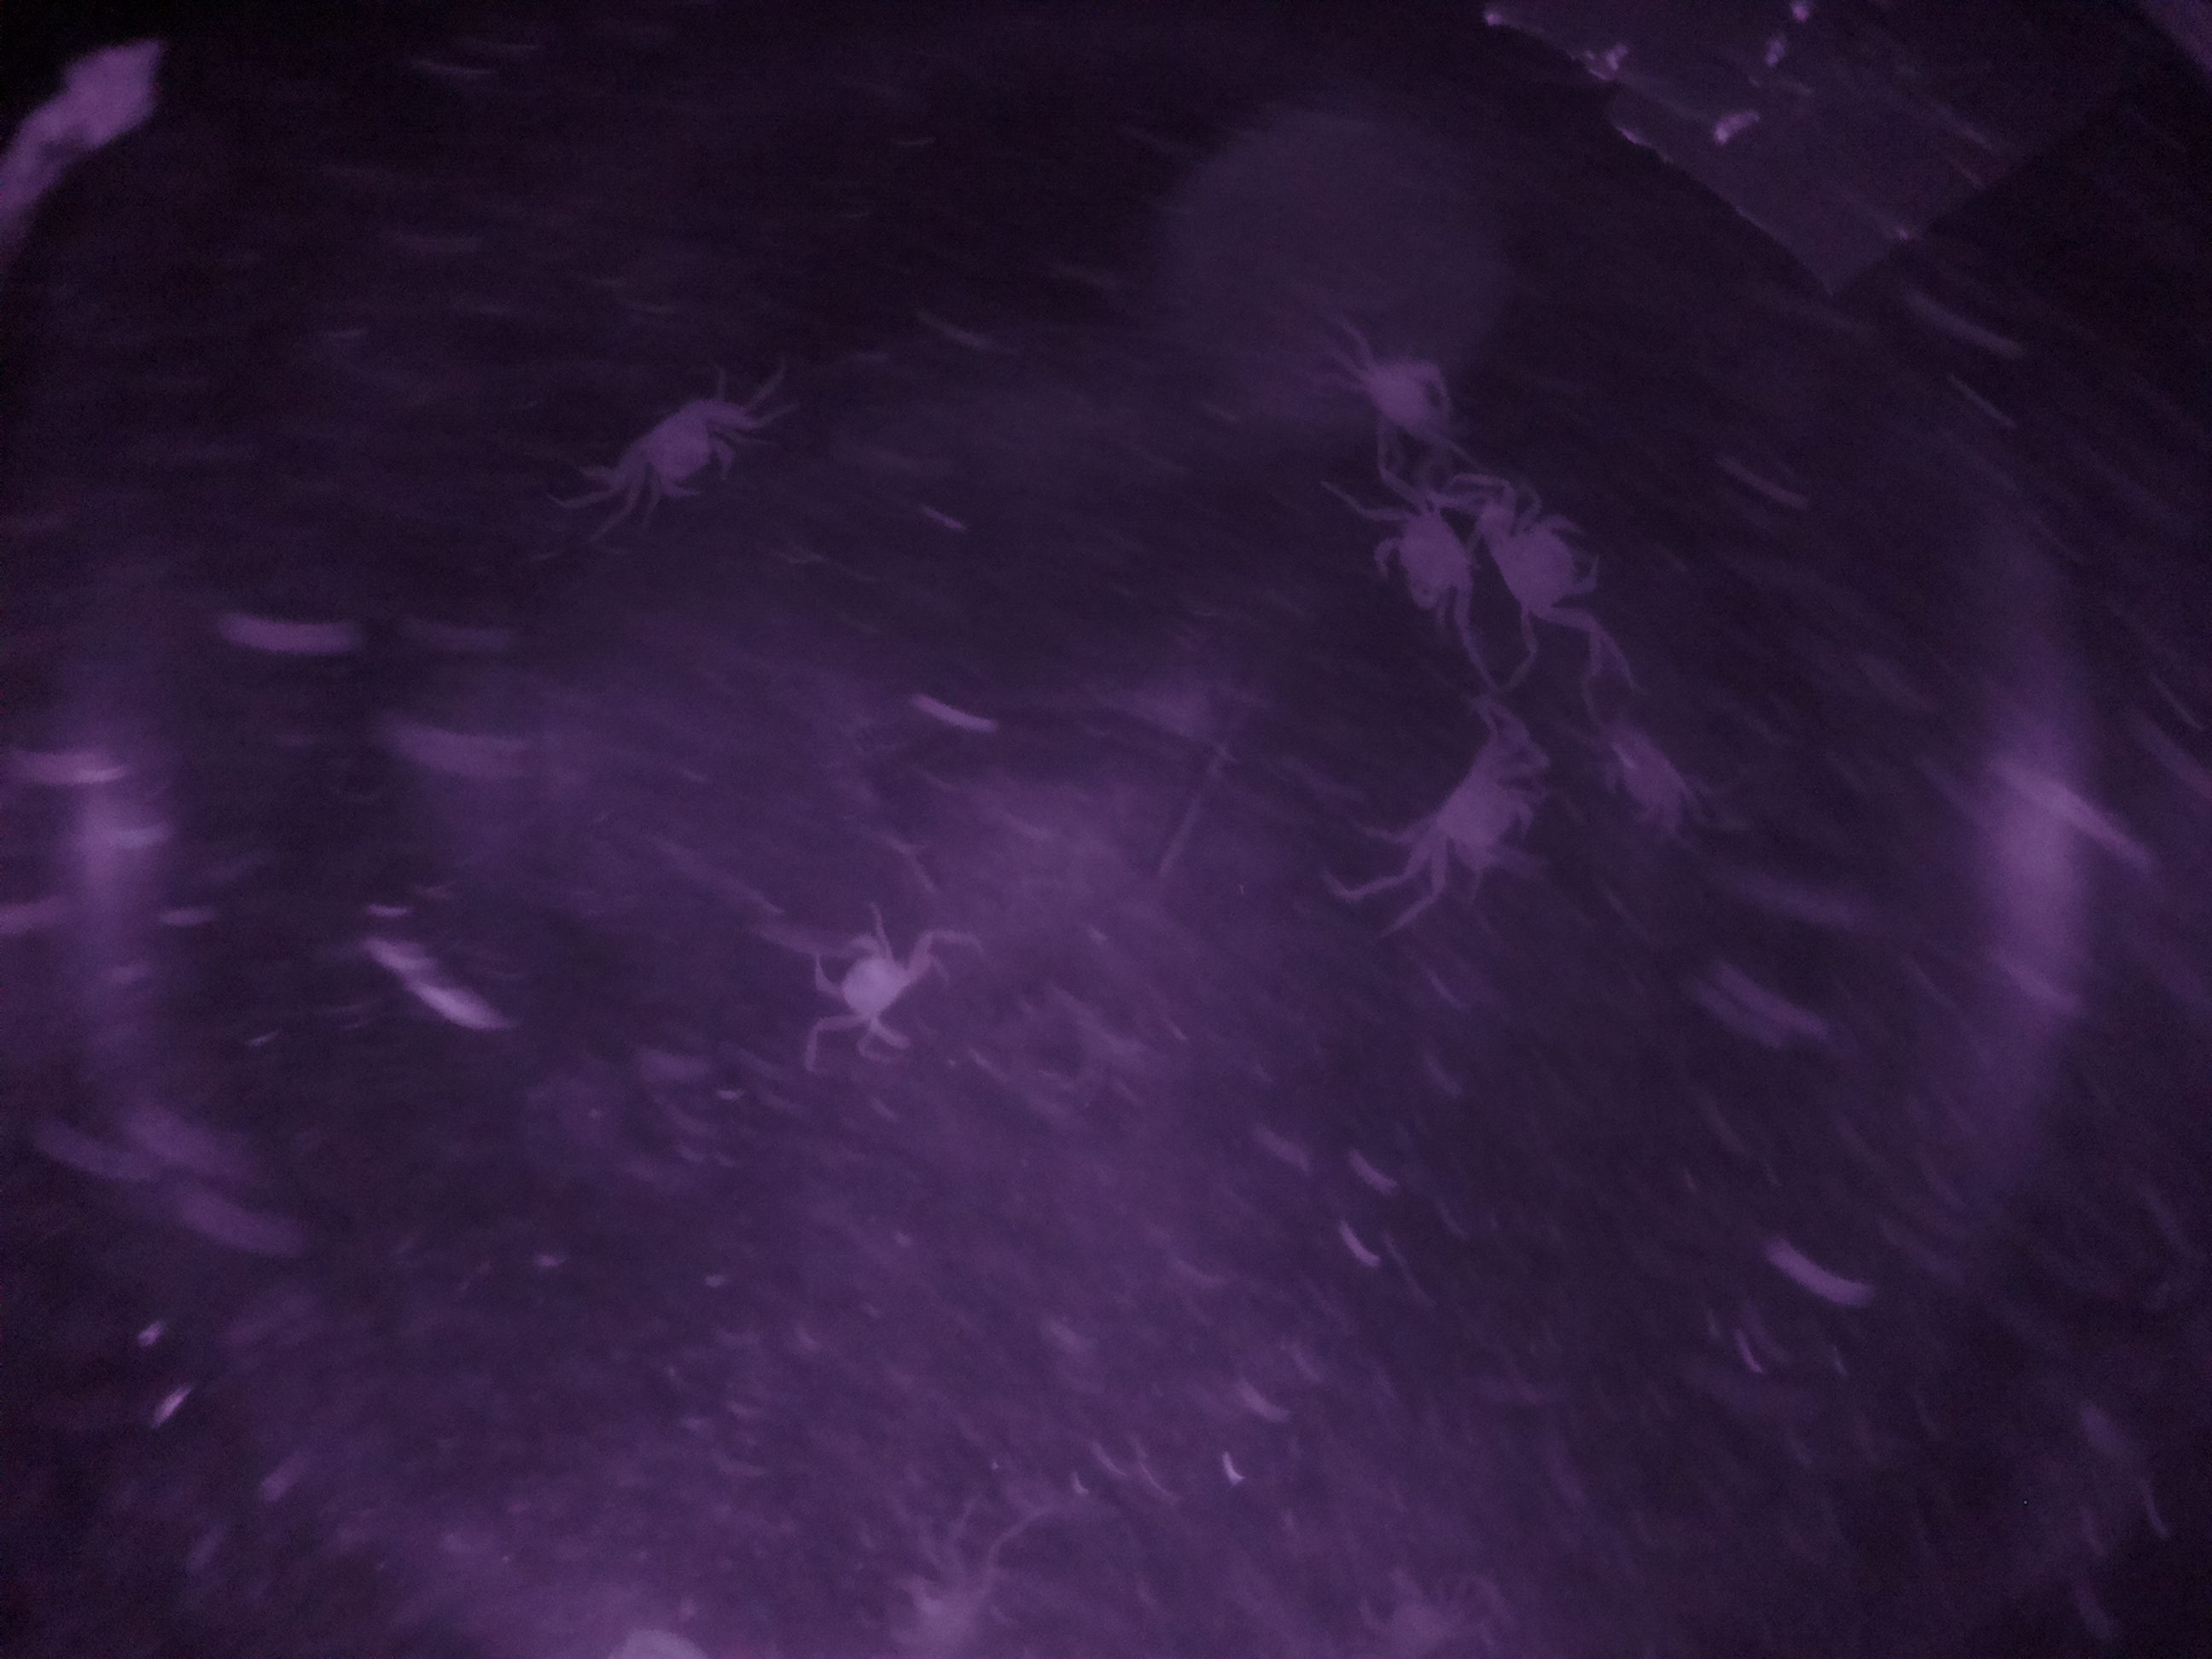Crab: (1463, 484, 1623, 636), (606, 376, 756, 523)
